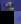grenade: (0, 0, 14, 11)
zombie: (0, 11, 14, 24)
